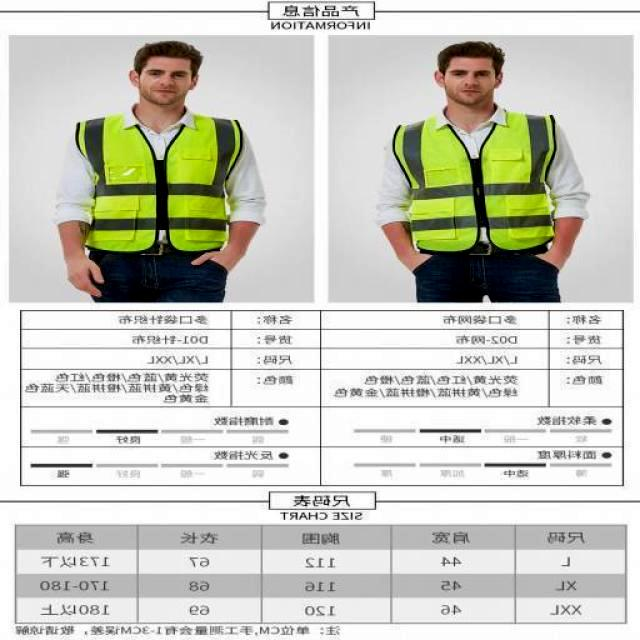no_head_wear: (135, 40, 201, 76), (439, 41, 504, 75)
person: (379, 41, 588, 301), (58, 41, 265, 301)
